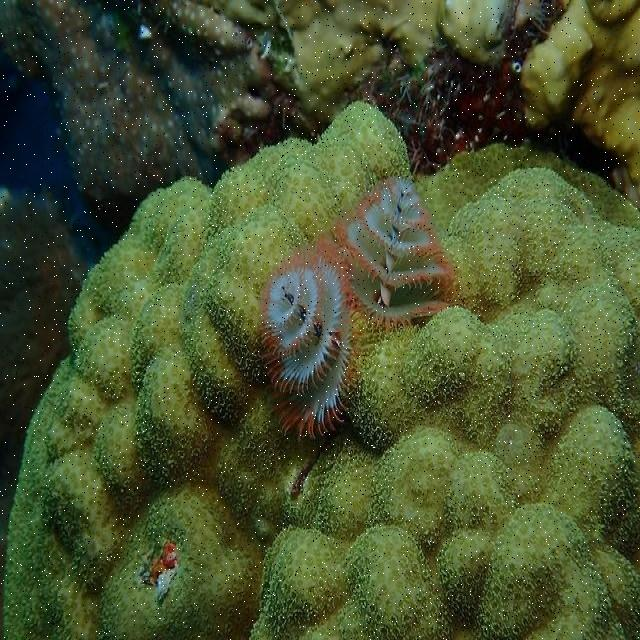reefs: (1, 103, 639, 639), (260, 173, 448, 439)
